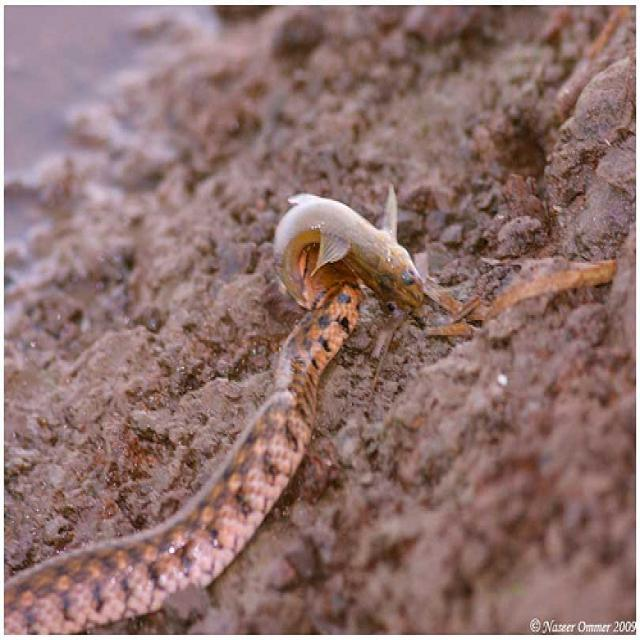Snake: (2, 181, 440, 634)
